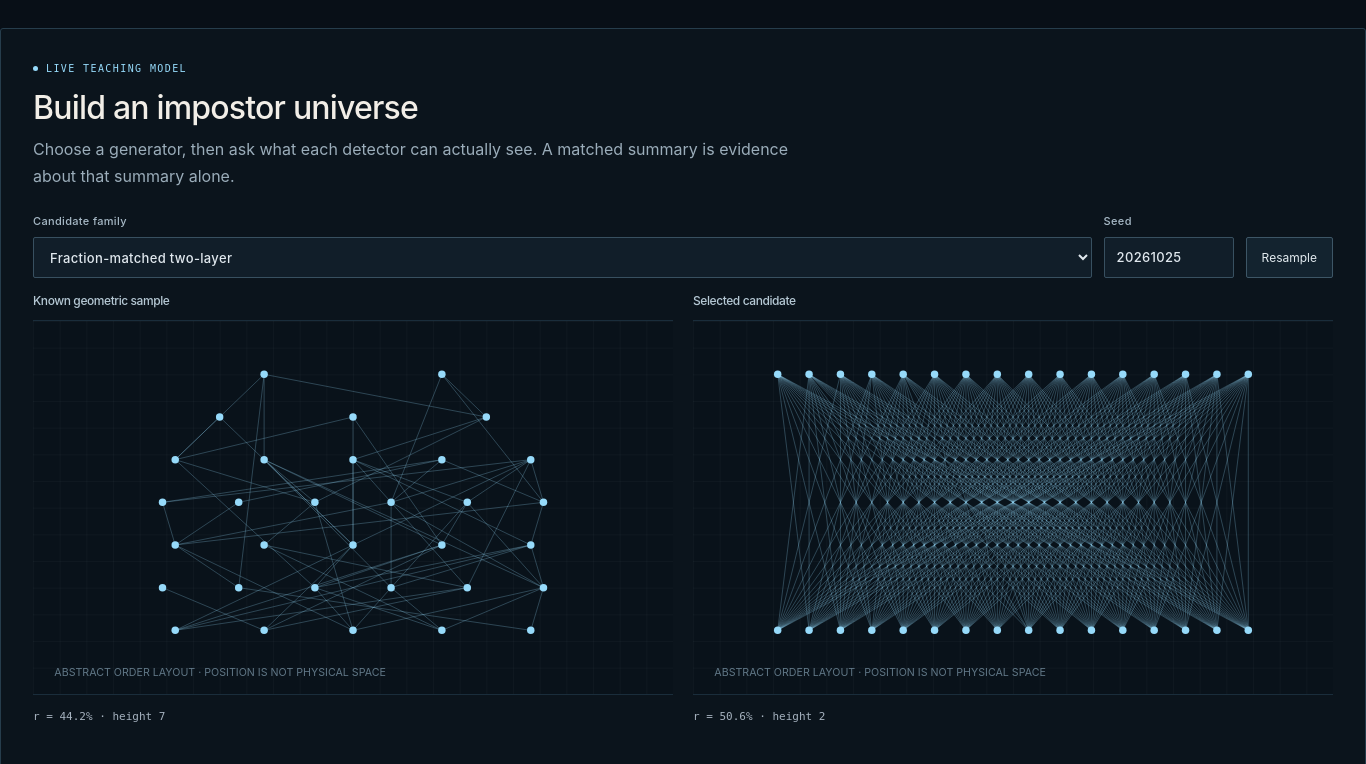
Test case: working teaching controls › changes adversaries and explains all detector choices
Step 1. Select "Rank-two law-equivalent control" in the dropdown named "Adversarial family" → (562, 258), box [33,237,1092,278]
(page scrolled)
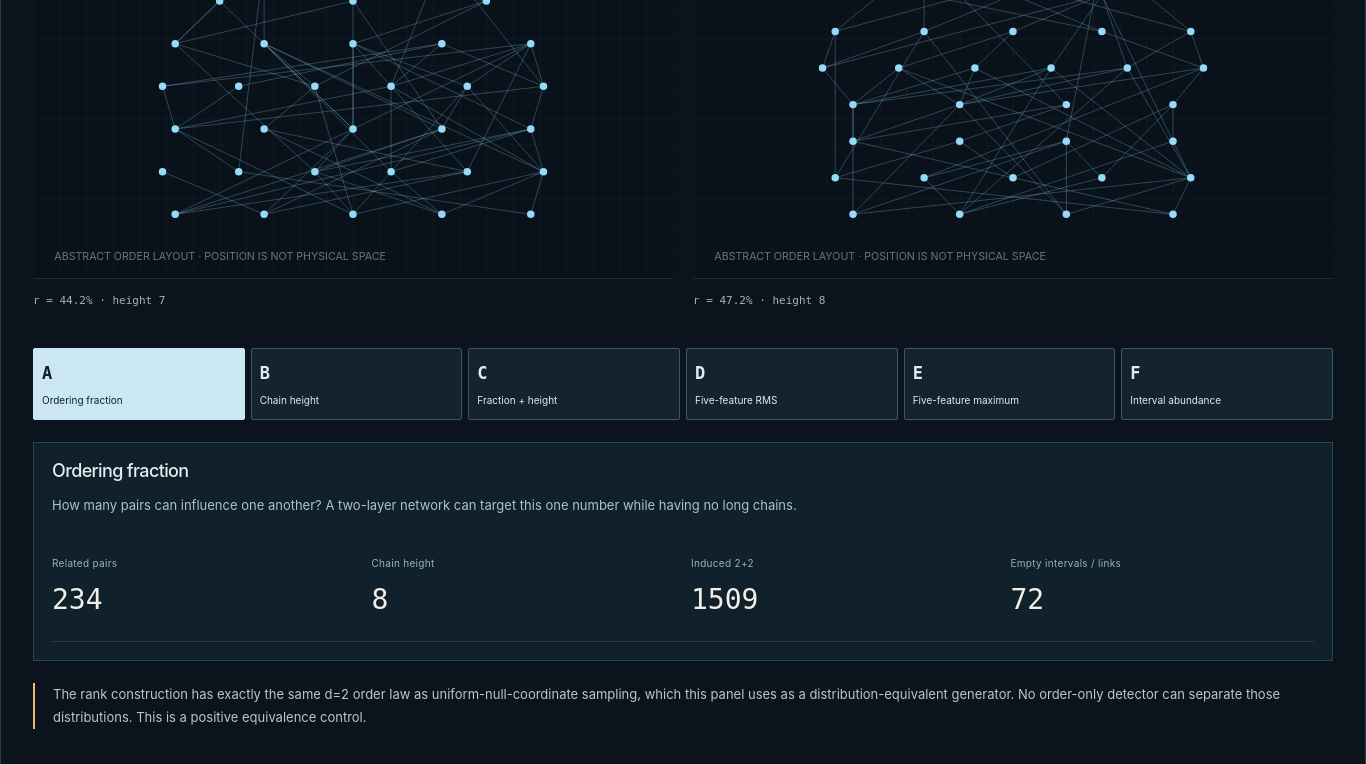
Expected: the text "positive equivalence control" is shown, [53,686,1280,725]
Step 2. Click the button "E Five-feature maximum" → (1010, 384), box [904,348,1115,420]
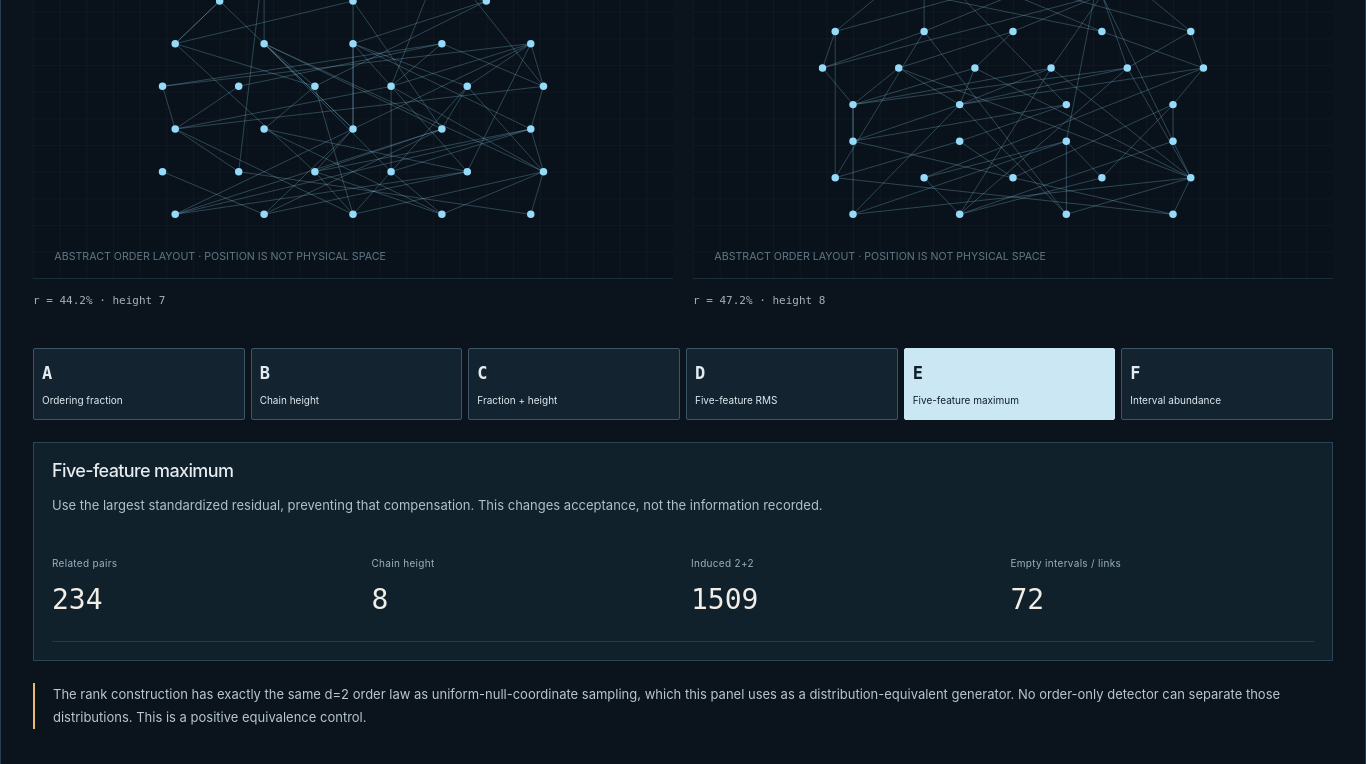
Expected: the text "largest standardized residual" is shown, [52,497,823,513]
